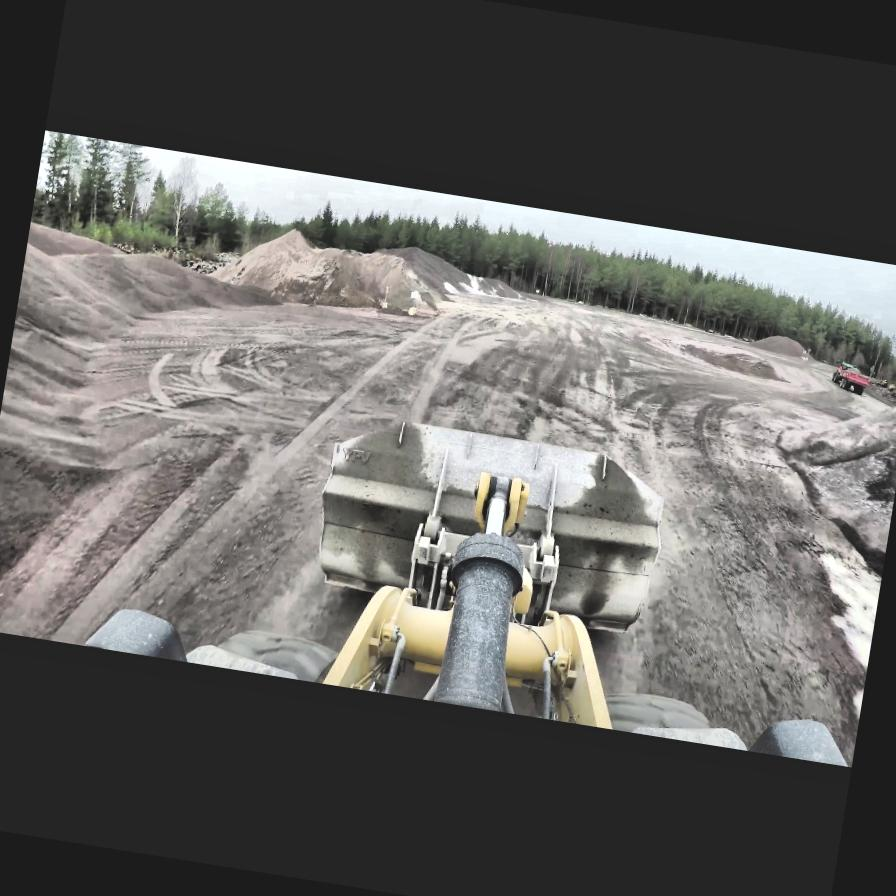anchor: (469, 471, 531, 539)
pile of gravel: (211, 214, 482, 330), (755, 360, 896, 513), (84, 242, 267, 325), (25, 215, 124, 268), (668, 338, 790, 380), (457, 270, 538, 302), (254, 222, 321, 258), (749, 330, 812, 358)
